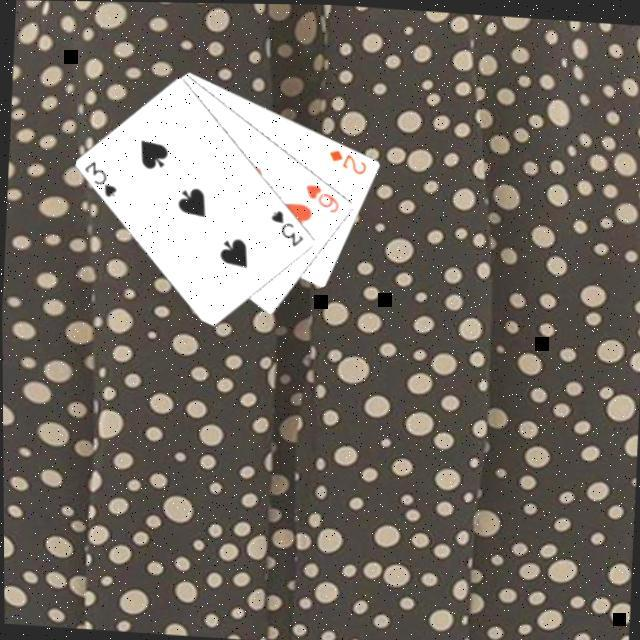2D: (327, 146, 373, 179)
3S: (268, 208, 310, 252), (82, 160, 124, 202)
6H: (302, 182, 344, 218)
